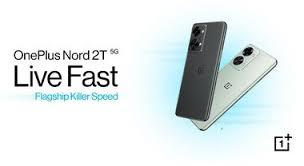Smartphone: (191, 51, 293, 131), (168, 19, 230, 120)
